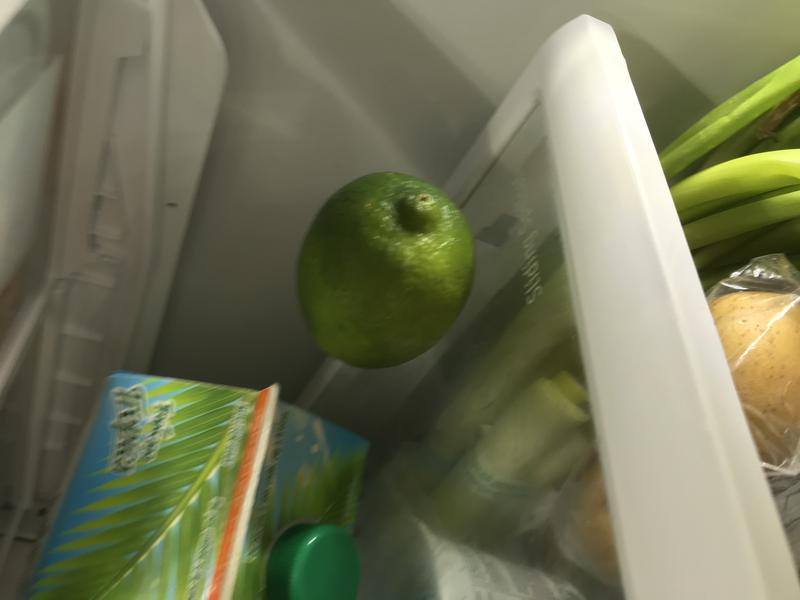lime: (282, 162, 491, 379)
